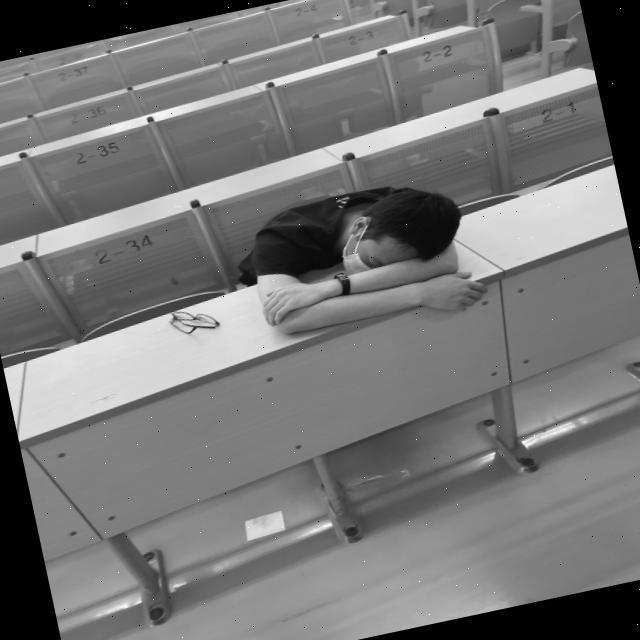sleep: (228, 166, 494, 355)
